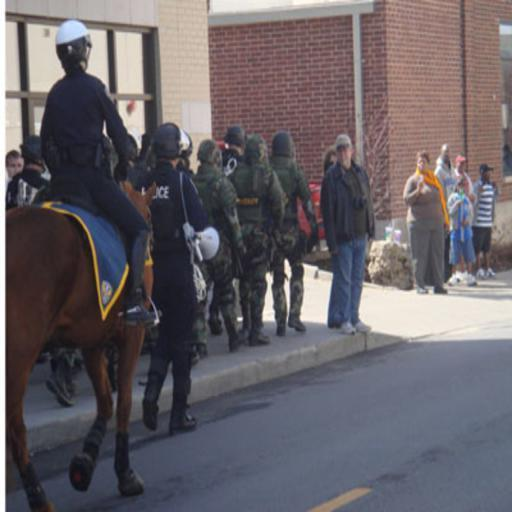horse: (2, 180, 155, 510)
